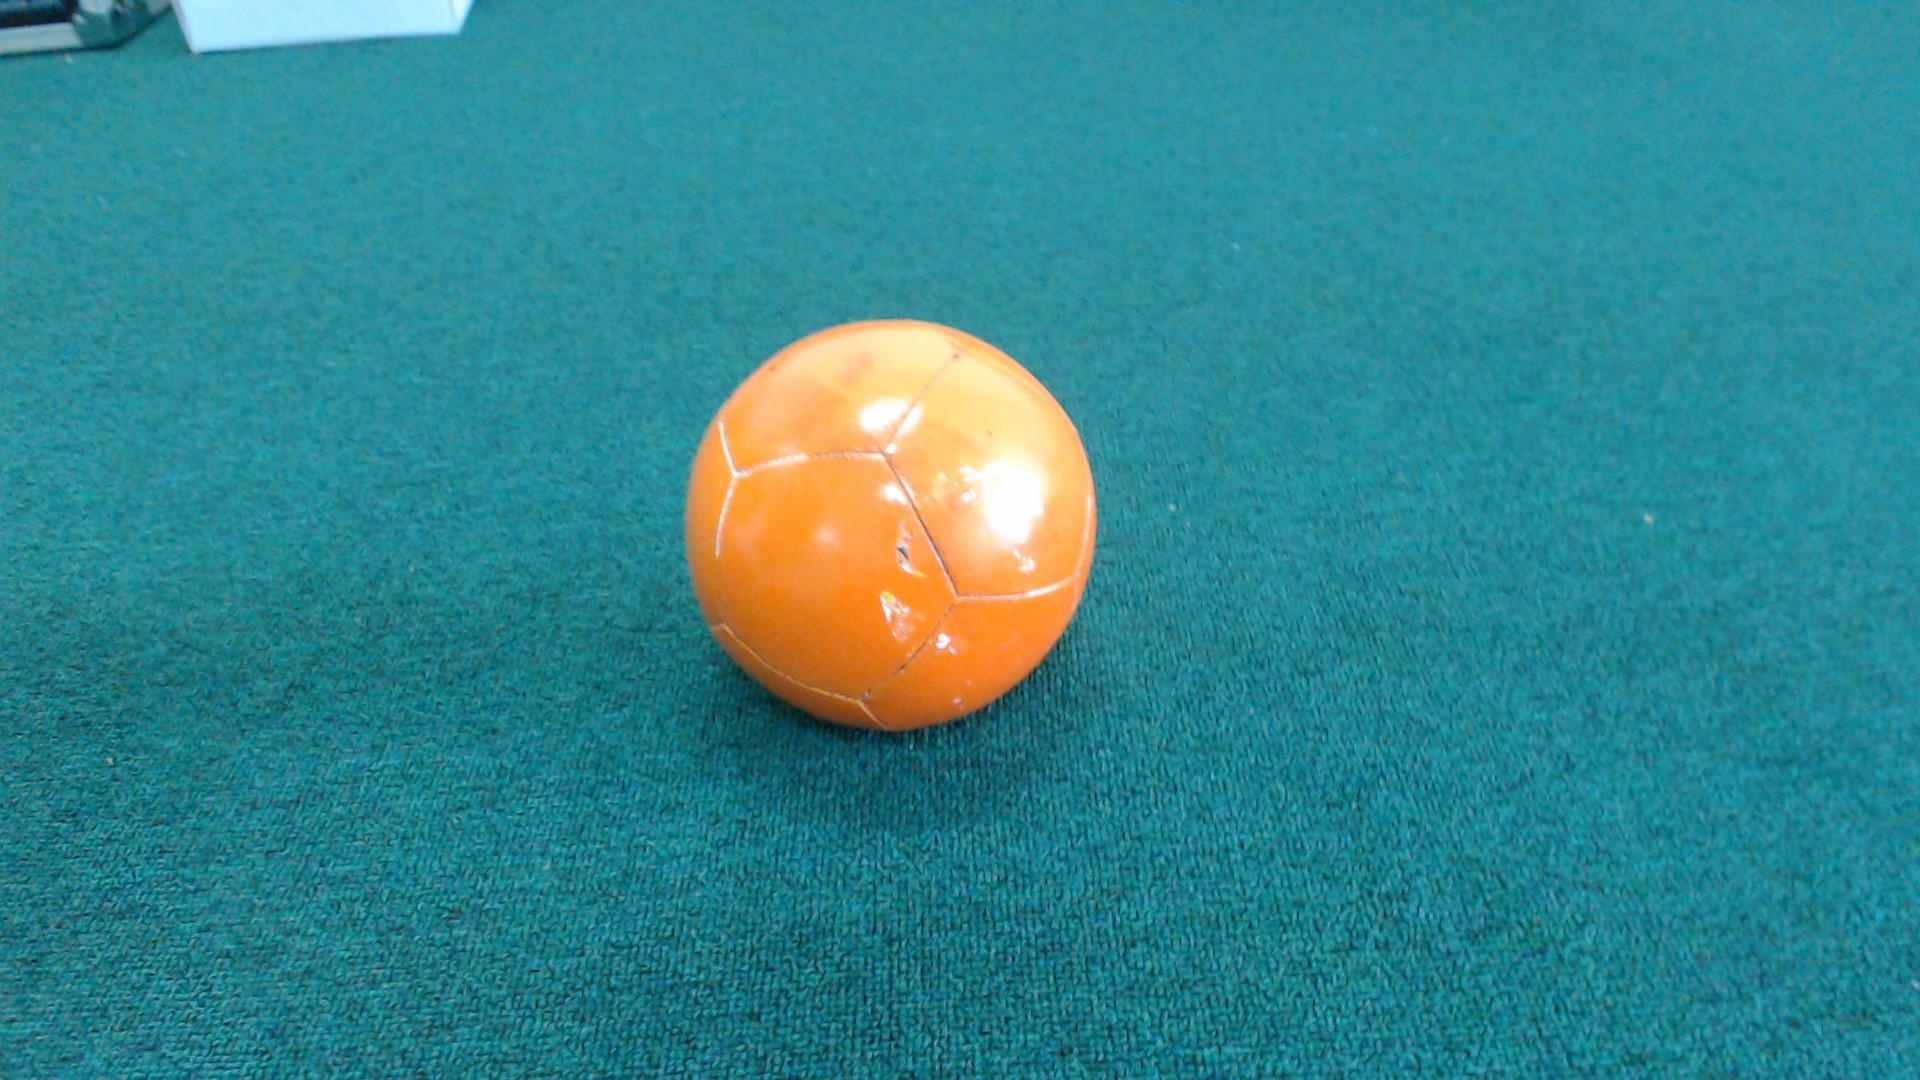bola: (674, 289, 1108, 793)
